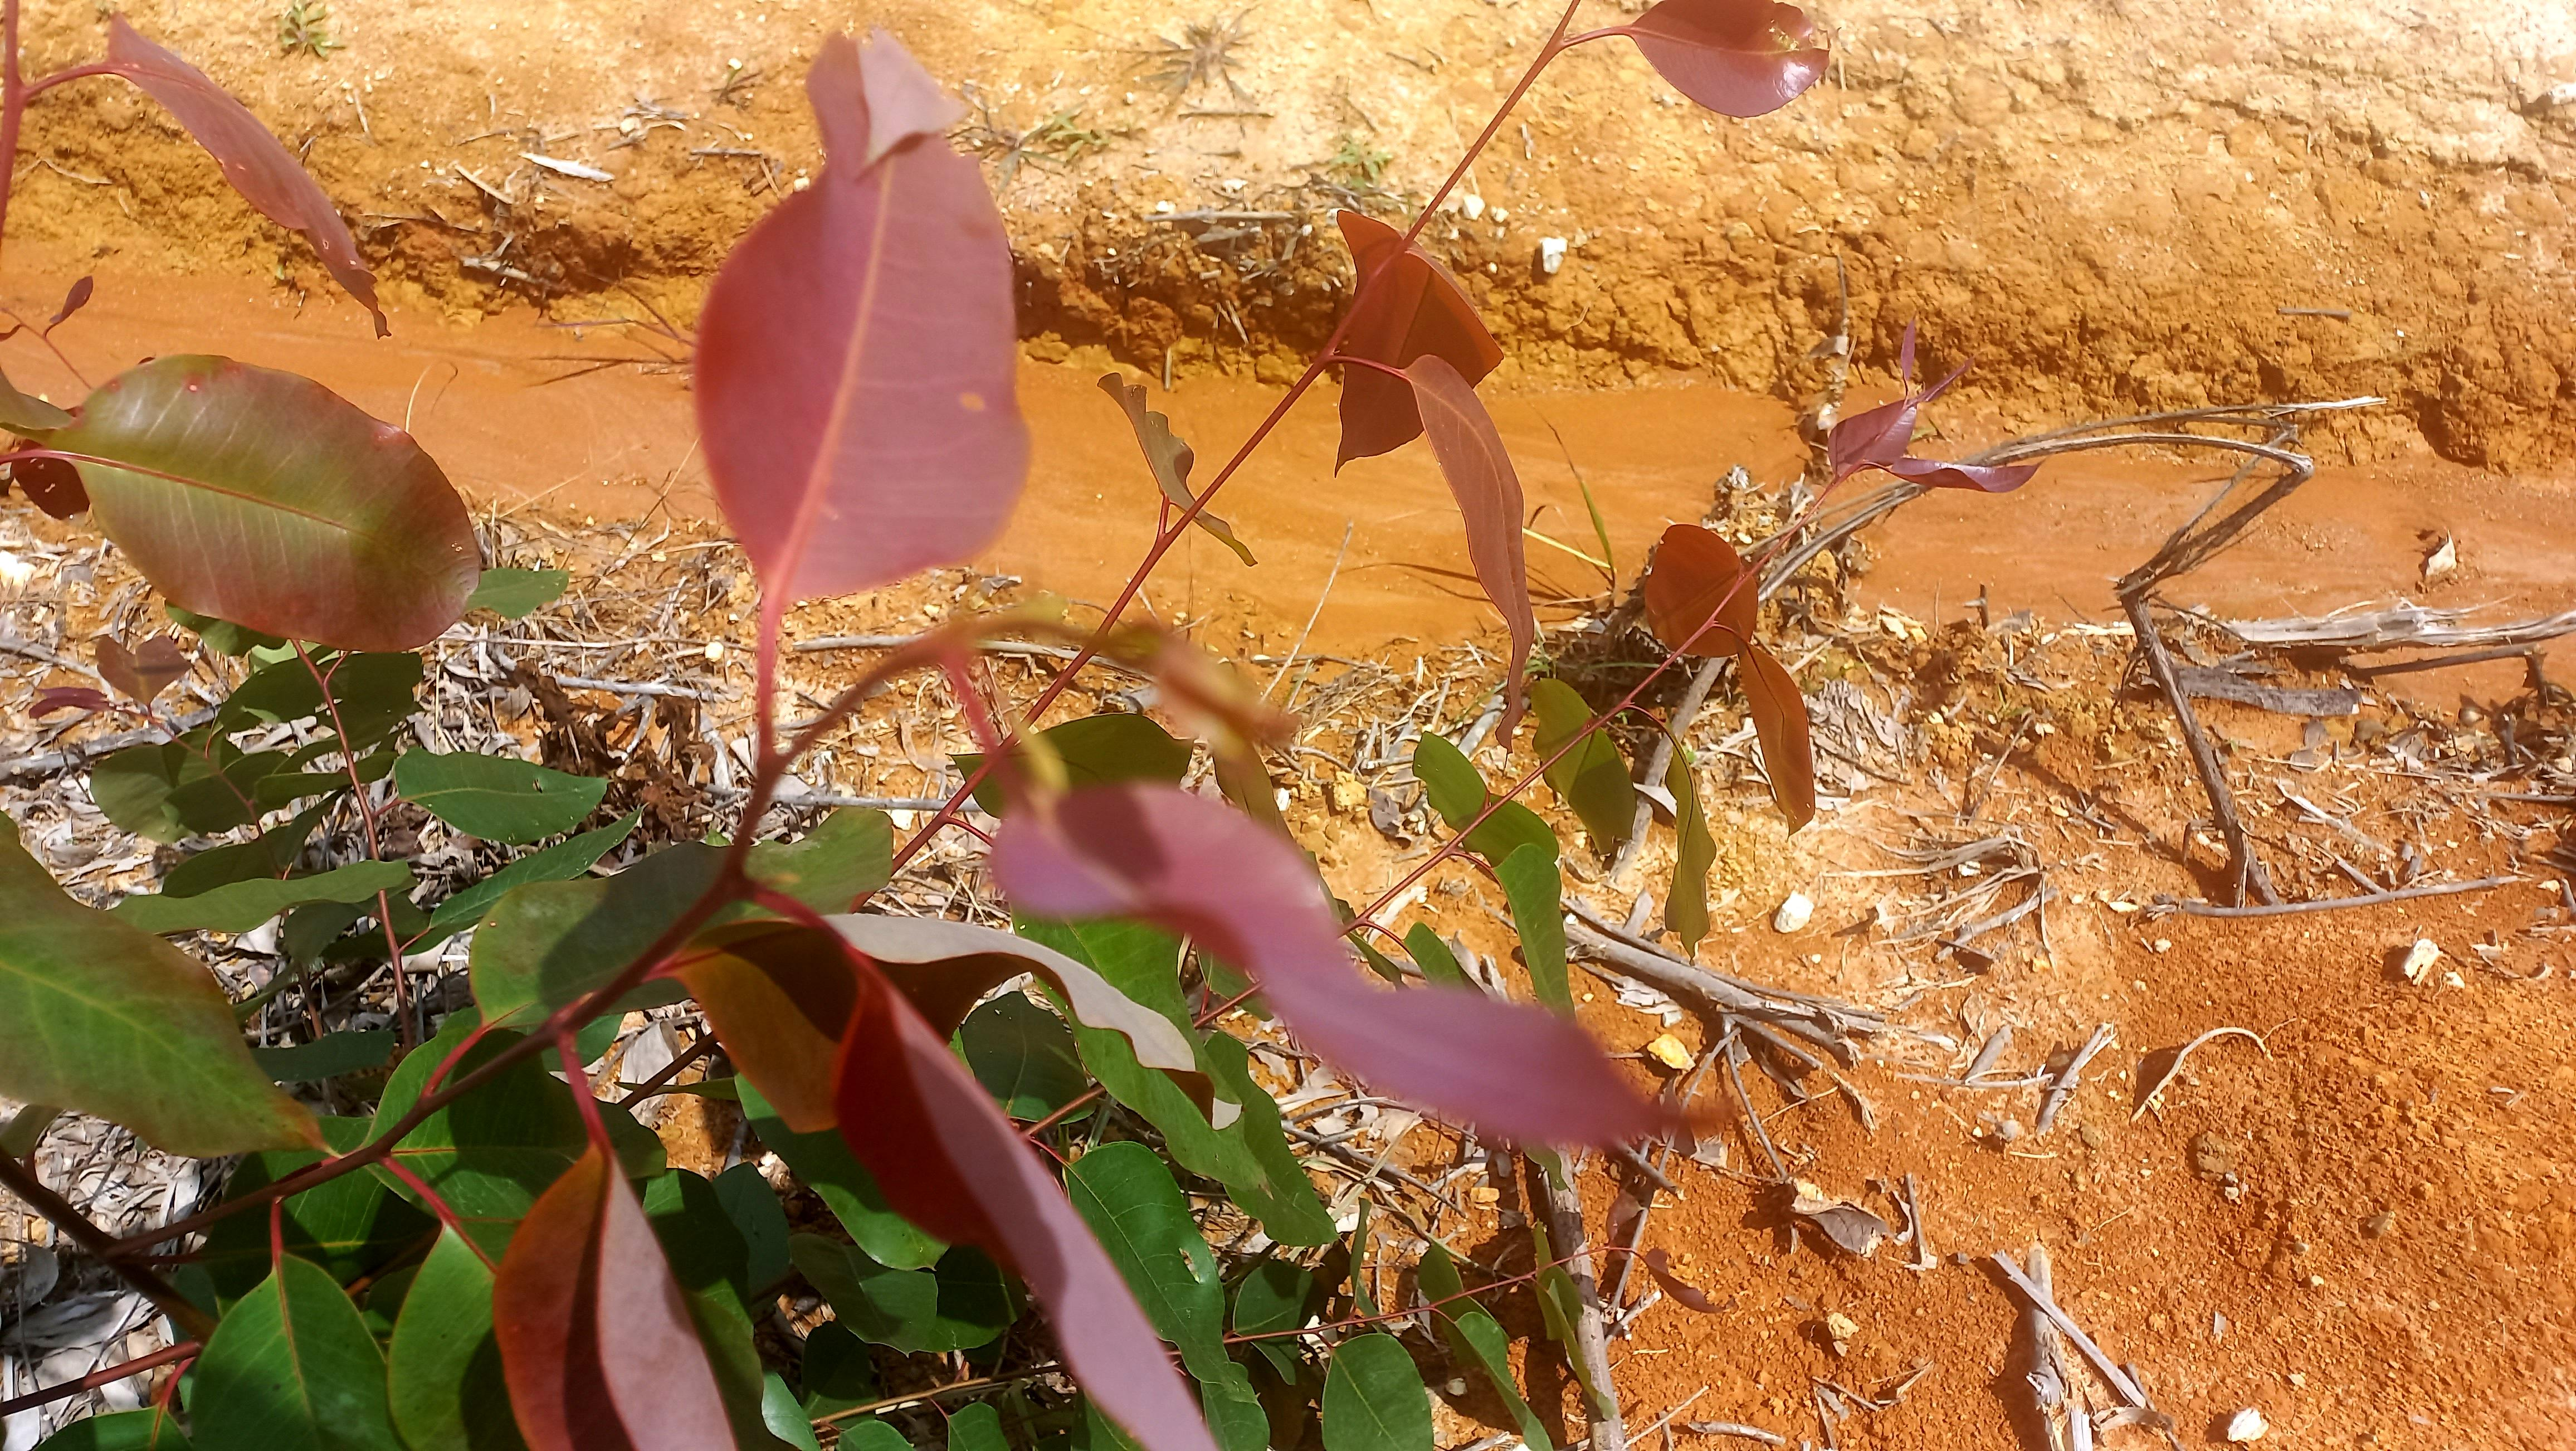Leaf Roller - Leaf: (699, 32, 1016, 595), (1092, 368, 1263, 572), (1808, 359, 2038, 497), (1628, 0, 1835, 120)
